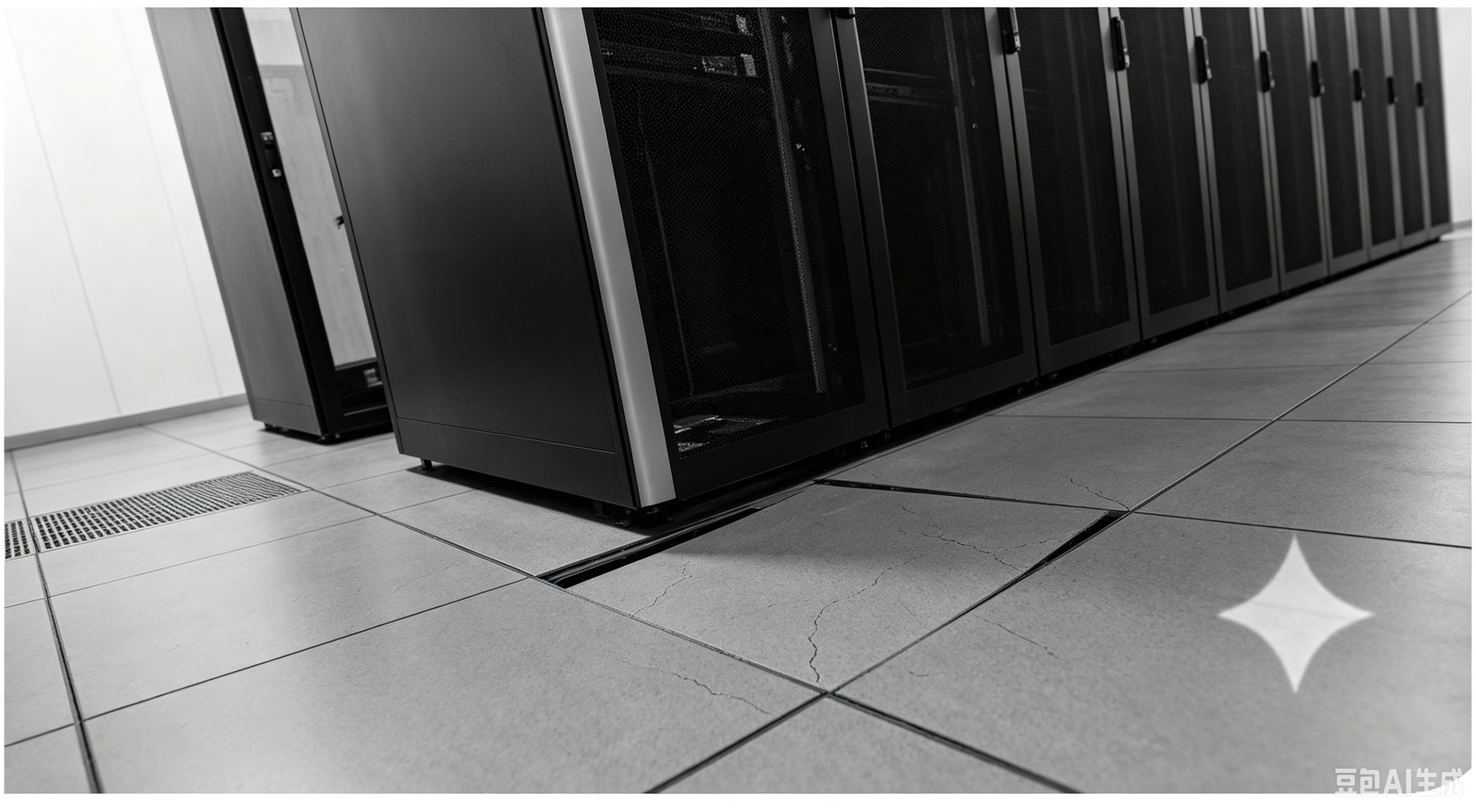floor_defect: (542, 472, 1152, 715)
